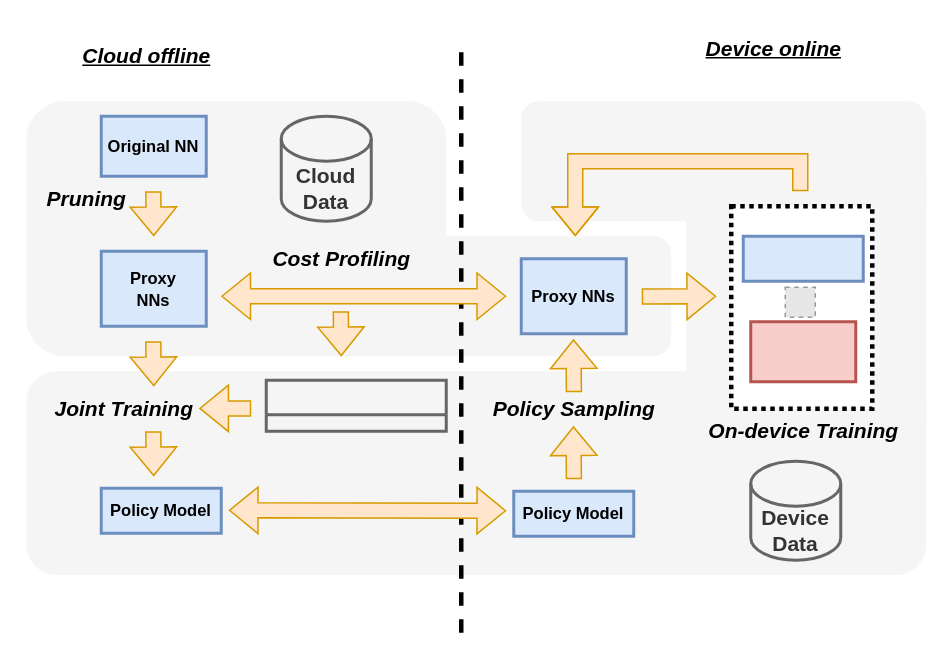
The diagram is 951 pixels wide and 662 high, and some of its shapes have lost their labels. Grey dashed boxes stand in for pictures. Here are the shapes that lost their labels. From the top down, the centre of each, then its label:
At point (723, 160): "Importance Feedback".
At point (802, 258): "Proxy NN".
At point (802, 351): "Trainable Layers".
At point (355, 405): "Latency Table".
